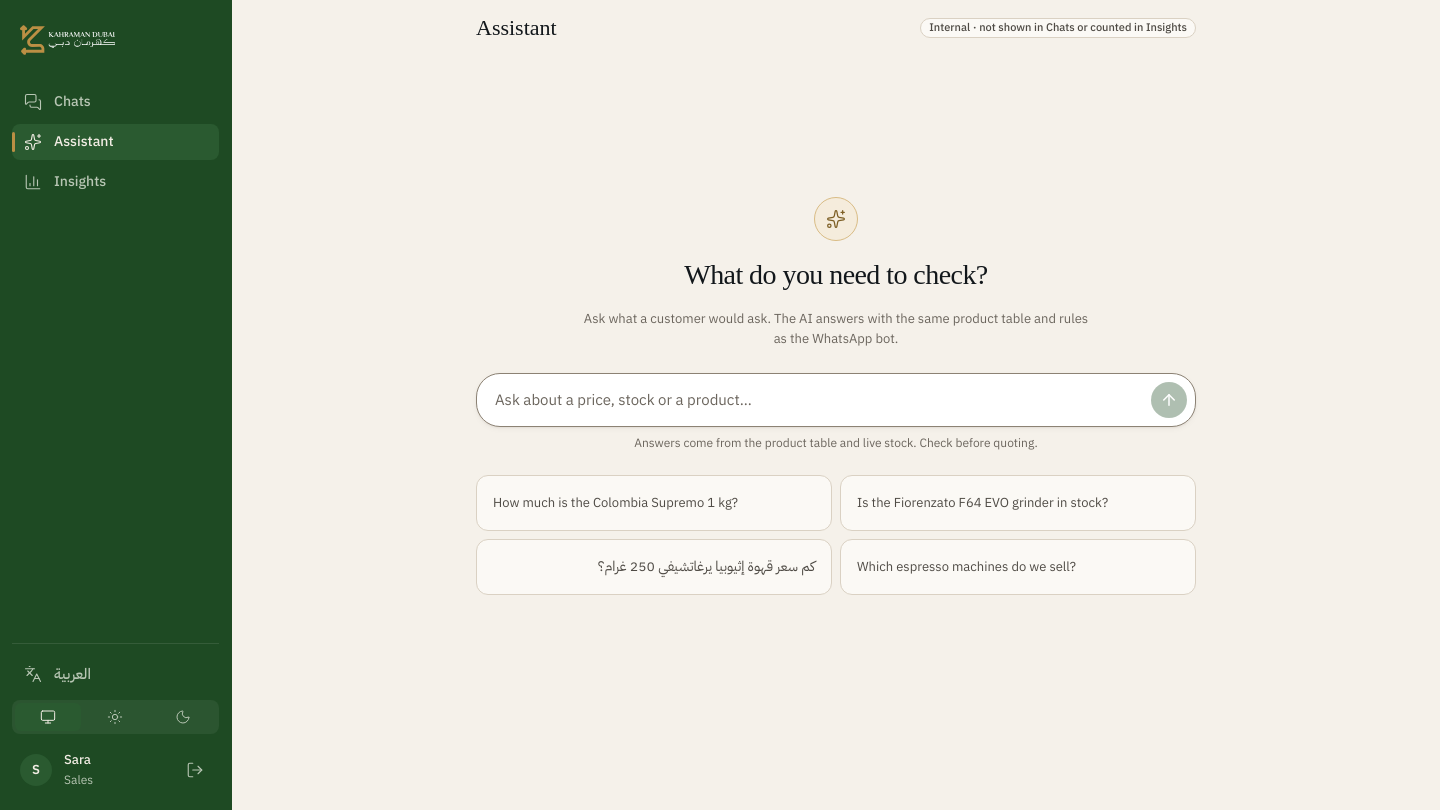
Test: assistant › greets with suggestions, says it is internal, and sends with a retry-safe id
The width and height of the screenshot is (1440, 810).
Expected: the heading "What do you need to check?" is shown, top-left (684, 257), bottom-right (988, 293)
Expected: the text "Internal · not shown in Chats or counted in Insights" is shown, top-left (920, 18), bottom-right (1196, 38)
In the text box: [818, 400] box top-left (493, 382), bottom-right (1143, 418), type "كم سعر الكولومبي؟"
Then press Enter
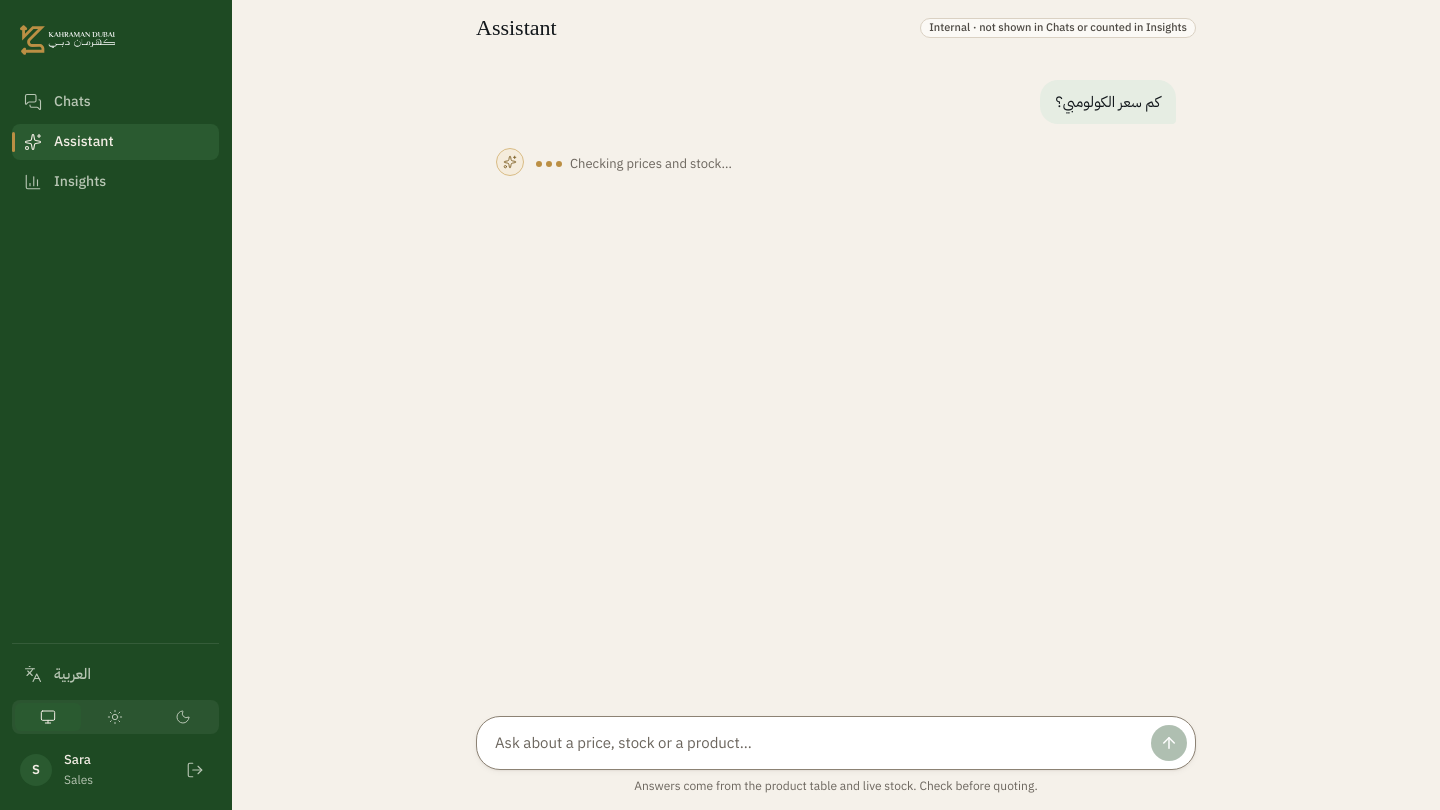
Expected: the text box is empty, top-left (493, 725), bottom-right (1143, 761)
Now the element named "You" reads "كم سعر الكولومبي؟", box top-left (1056, 91), bottom-right (1160, 113)
Now the text "Checking prices and stock…" is shown, box top-left (536, 148), bottom-right (732, 176)
